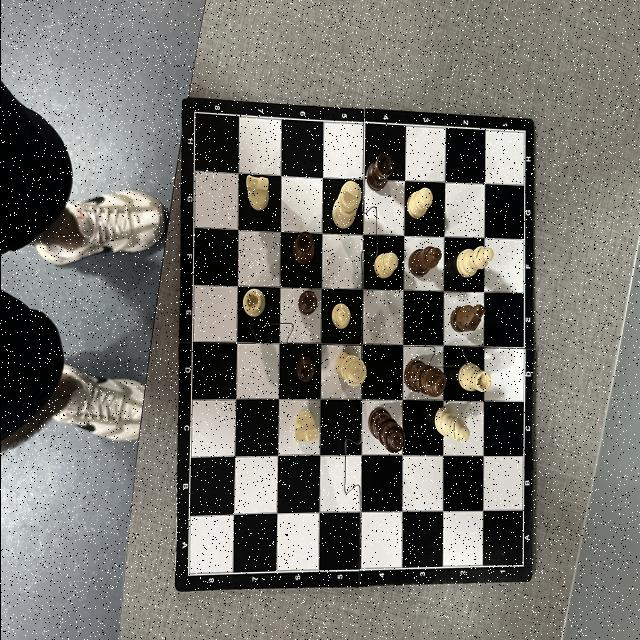Black-Bishop: (407, 247, 441, 278)
Black-King: (402, 360, 447, 397)
Black-Knight: (449, 305, 484, 334)
Black-Pawn: (294, 357, 314, 383), (298, 290, 316, 316)
Black-Queen: (366, 408, 404, 452)
Black-Rook: (366, 154, 392, 190), (292, 232, 312, 264)
White-Bishop: (454, 245, 494, 278), (434, 406, 469, 442)
White-King: (331, 180, 360, 228)
White-Knight: (244, 174, 268, 212), (292, 412, 318, 442)
White-Pawn: (406, 188, 432, 218), (374, 252, 396, 278), (330, 303, 350, 329)
White-Queen: (336, 352, 366, 387)
White-Rook: (458, 362, 491, 392), (242, 288, 265, 316)
